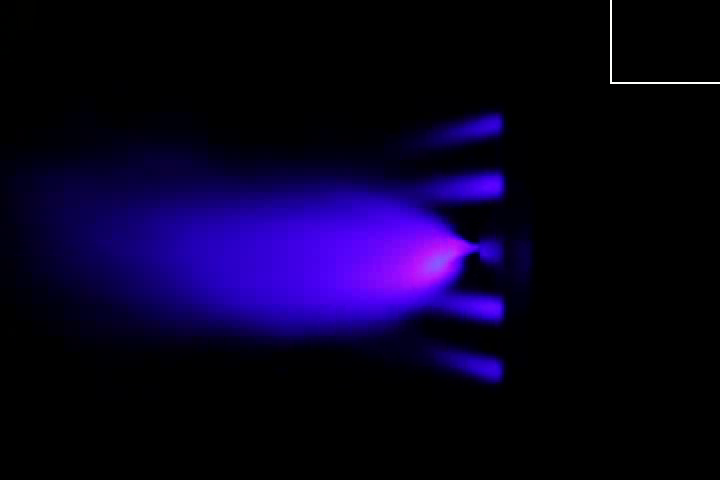burner cap: (478, 237, 506, 265)
pilot flame: (396, 169, 501, 201), (422, 116, 508, 146), (427, 351, 506, 382), (431, 292, 505, 323)
stable: (369, 218, 473, 288)
